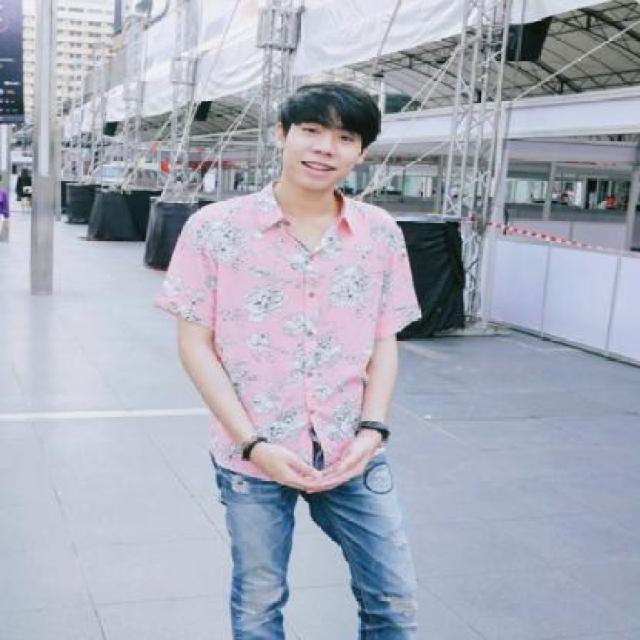sem_oculos: (264, 115, 374, 155)
